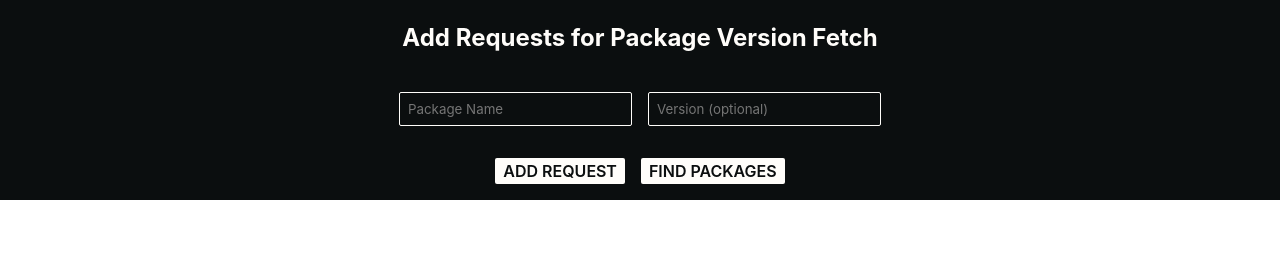
Packages Component › Should show an error if no package name is provided
This screenshot has width=1280, height=257.
Note: Simulate clicking "Find Packages" without filling any names
Click the button "Find Packages" at (713, 171), box [641, 158, 785, 184]
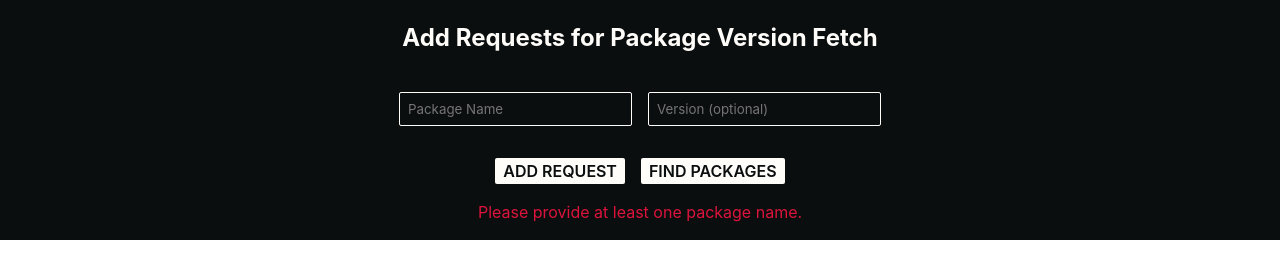
Now the text "Please provide at least one package name." is shown, box [478, 200, 802, 224]
